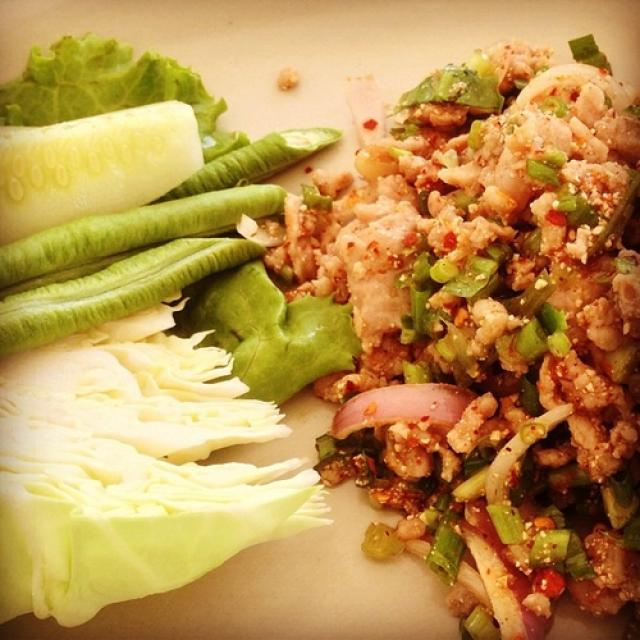鸡肉料理 含炸鸡: (27, 32, 630, 594)
